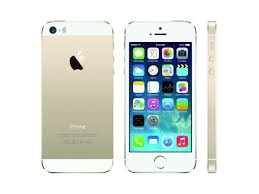iphone: (120, 15, 203, 172), (34, 16, 117, 173)
iphone5: (35, 17, 118, 174), (120, 16, 203, 173)
